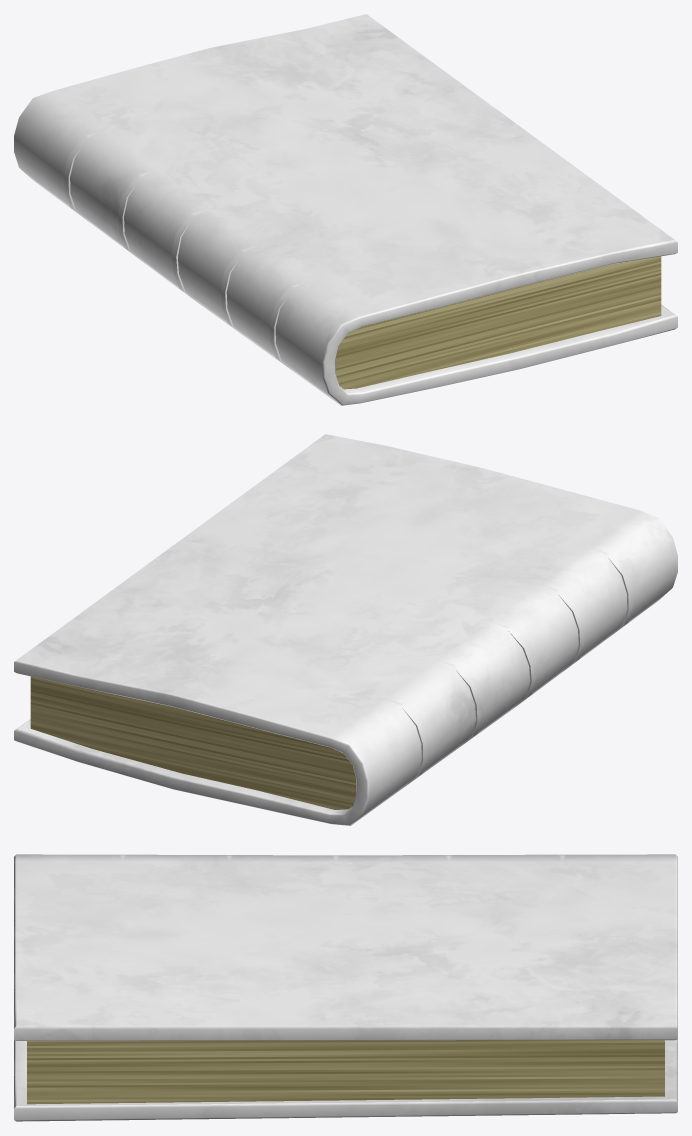
Rendered from Book02.fbx.
3 renders of one model, top to bottom at view 1: azimuth 30°, elevation 25°; view 2: azimuth 150°, elevation 25°; view 3: azimuth 270°, elevation 25°, orthographic. The views are drawn at different scales.
Visible parts, largest first — view 1: Book02; view 2: Book02; view 3: Book02.
Part boxes in pixels (x1,y1,x2,y2): Book02: [14, 14, 677, 405]; Book02: [14, 434, 677, 825]; Book02: [14, 854, 677, 1121].
Bounding box in the file's own units: 0.2409 × 0.0621 × 0.364.
2 materials, 2 textured.
